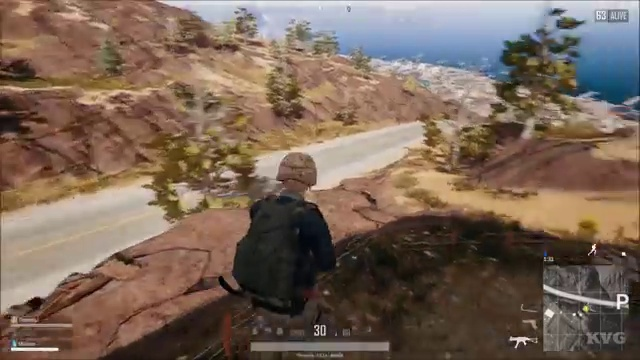Player: (198, 136, 374, 315)
